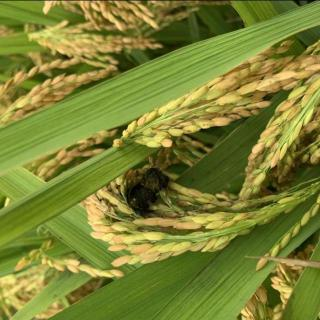Gosong-Palsu: (126, 164, 170, 211)
